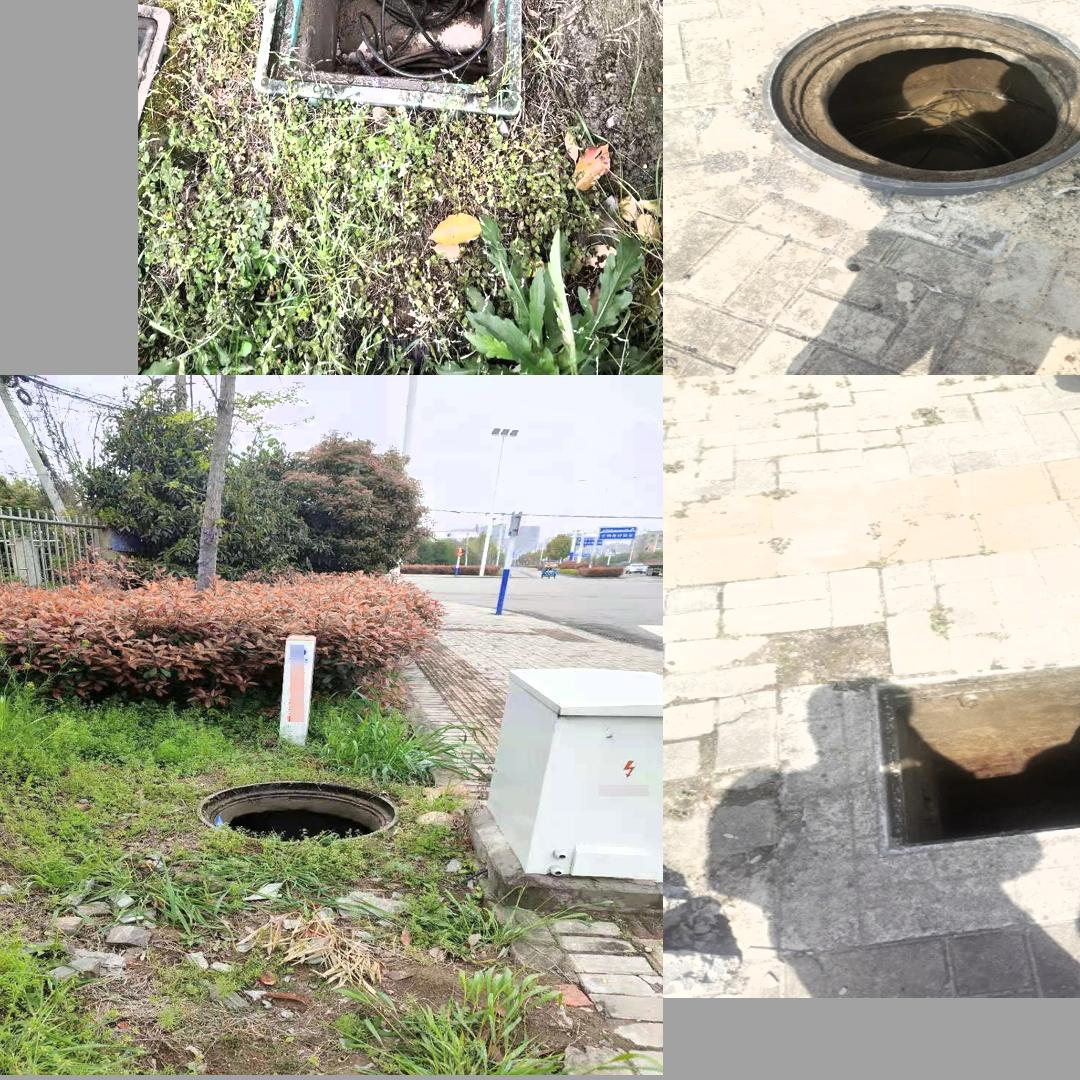lose: (749, 0, 1080, 191), (870, 660, 1080, 855), (253, 0, 527, 119), (187, 772, 409, 840)
